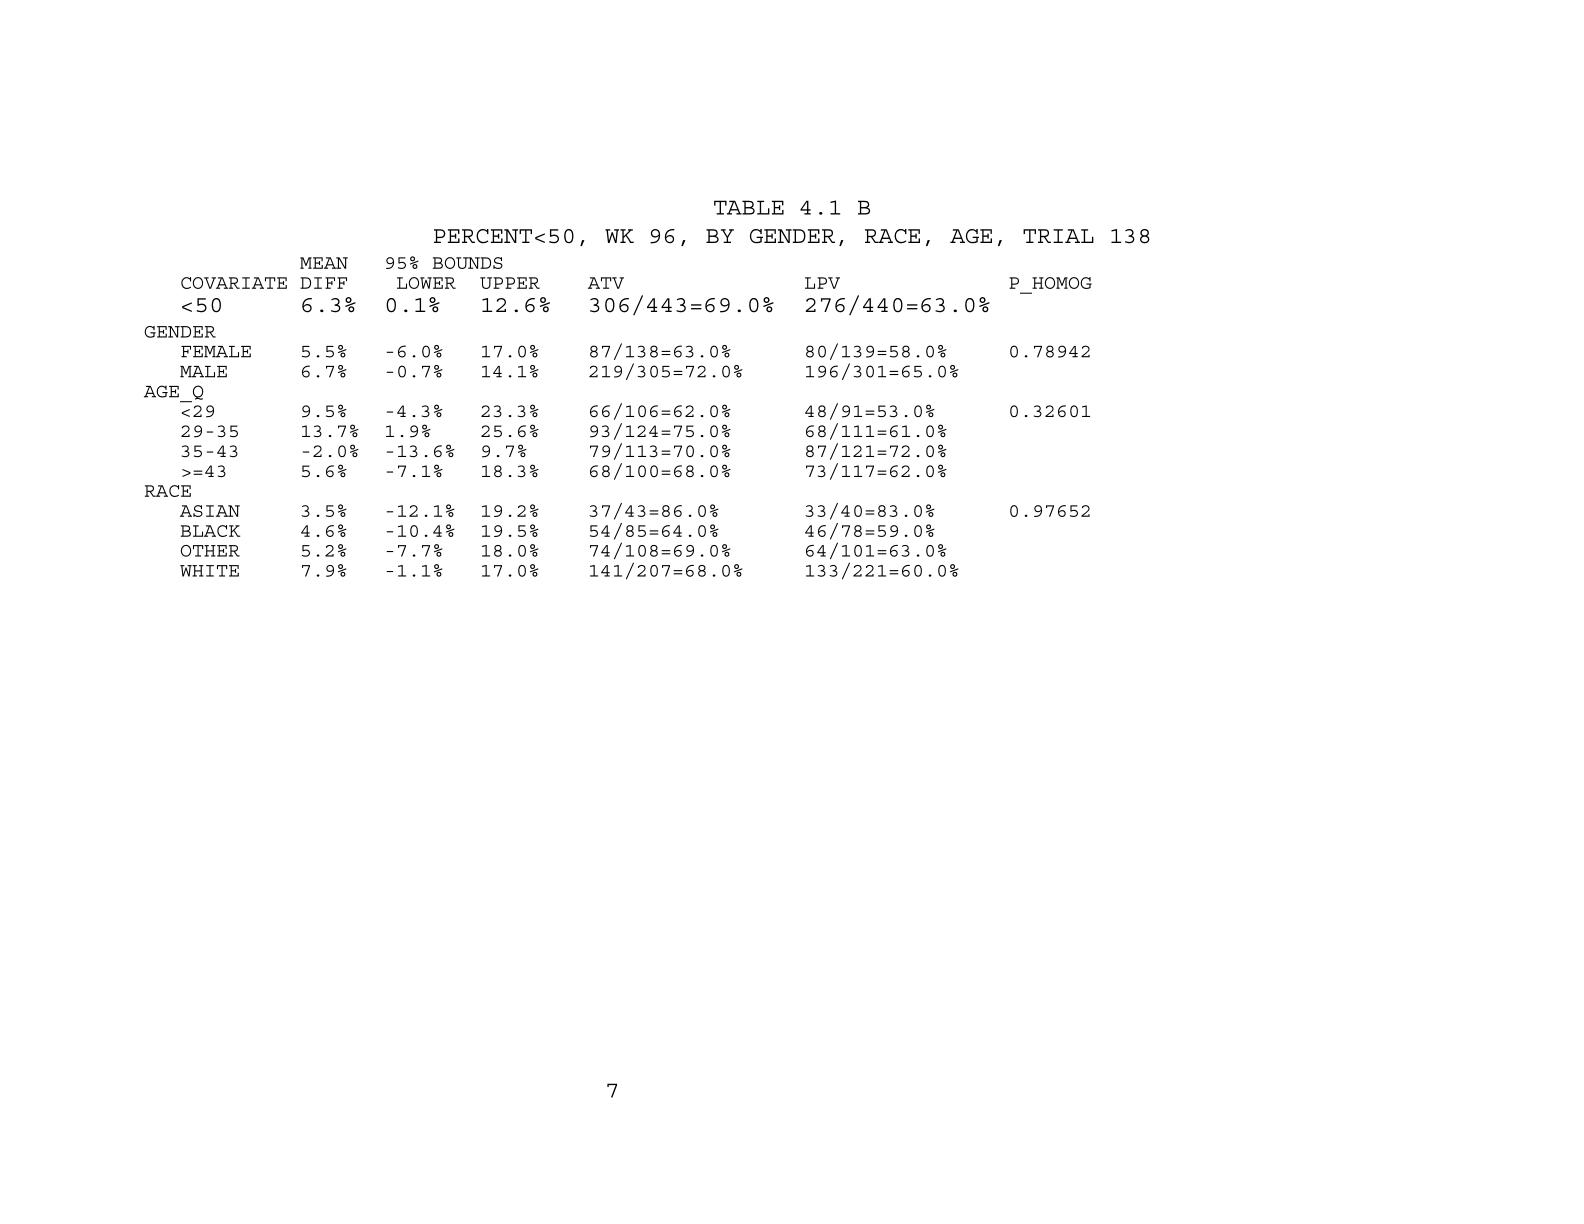nolines: (141, 253, 1097, 581)
